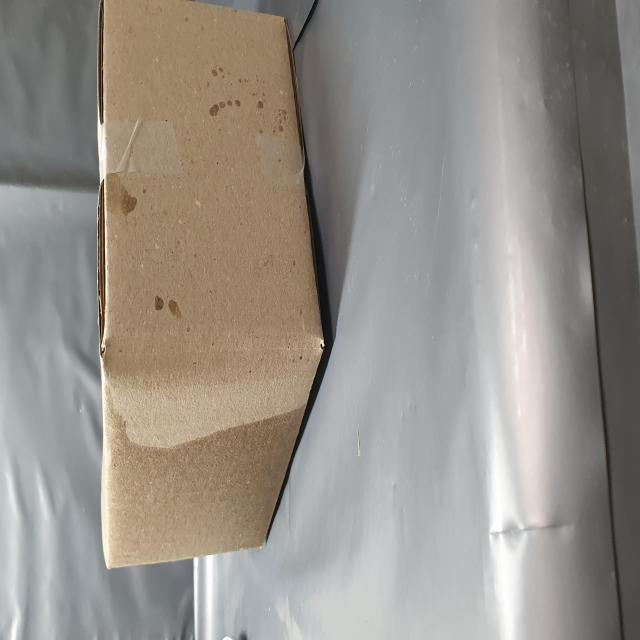wet: (42, 179, 164, 574)
